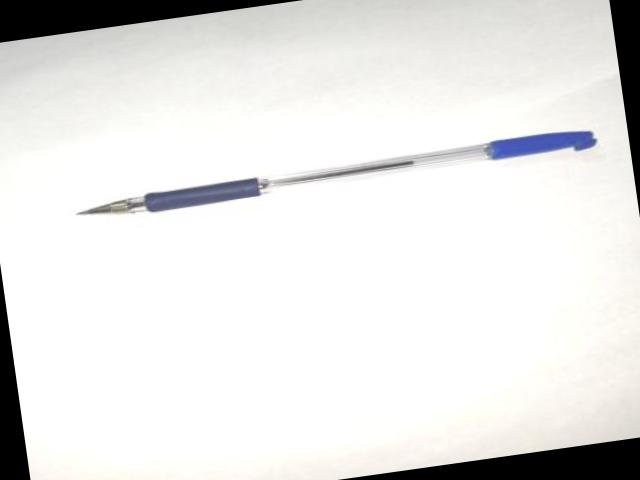PEN: (69, 117, 603, 232)
